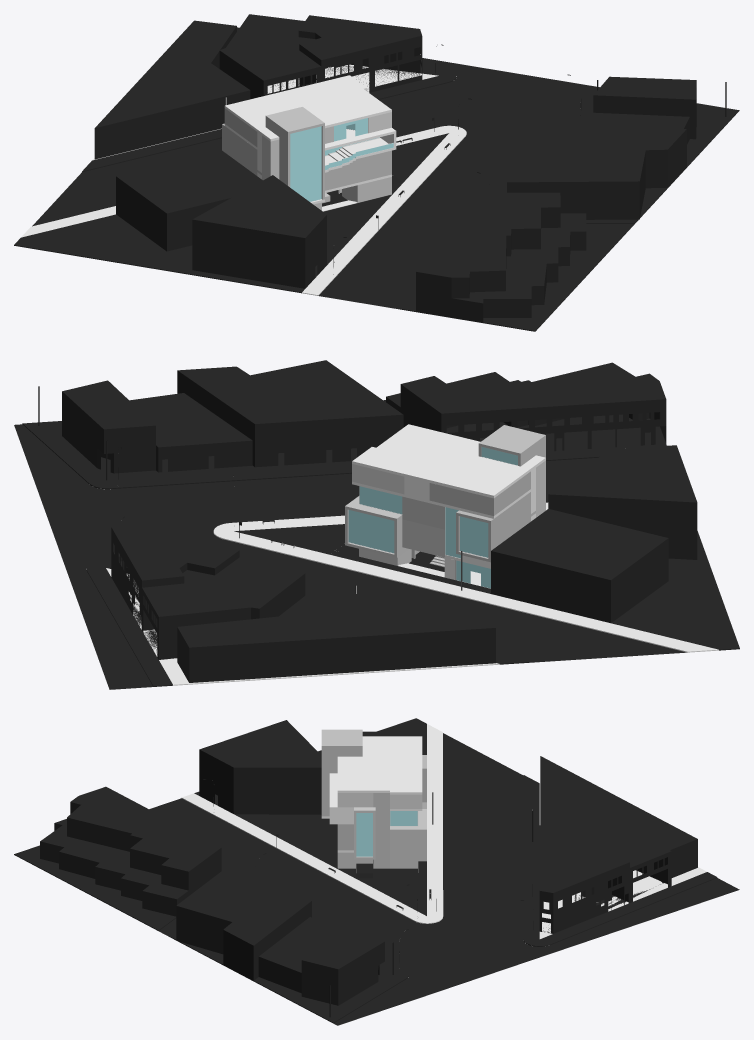
The picture shows the model from 3 angles, top to bottom: view 1: azimuth 30°, elevation 25°; view 2: azimuth 150°, elevation 25°; view 3: azimuth 270°, elevation 25°; orthographic projection. The views are drawn at different scales.
Parts seen in each view (by area): view 1: Untitled; view 2: Untitled; view 3: Untitled.
Boxes of the visible parts, x1,y1,x2,y2 form: Untitled: [14, 14, 739, 331]; Untitled: [14, 360, 739, 689]; Untitled: [14, 718, 739, 1025].
Size of the model in its own units: 146 by 24.02 by 146.
